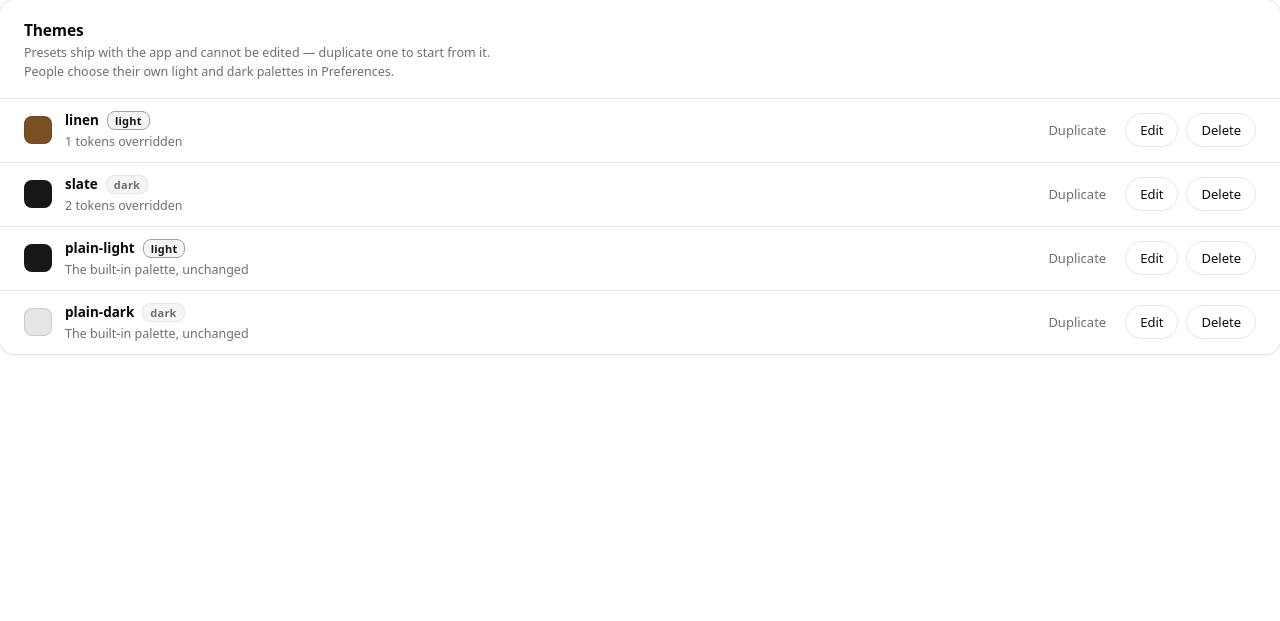
Test: editing › shows an oklch() value in the colour input as the hex it names
This screenshot has width=1280, height=621.
Step 1. Click the button with aria-label "Duplicate slate" → (1077, 194), box [1037,178,1117,210]
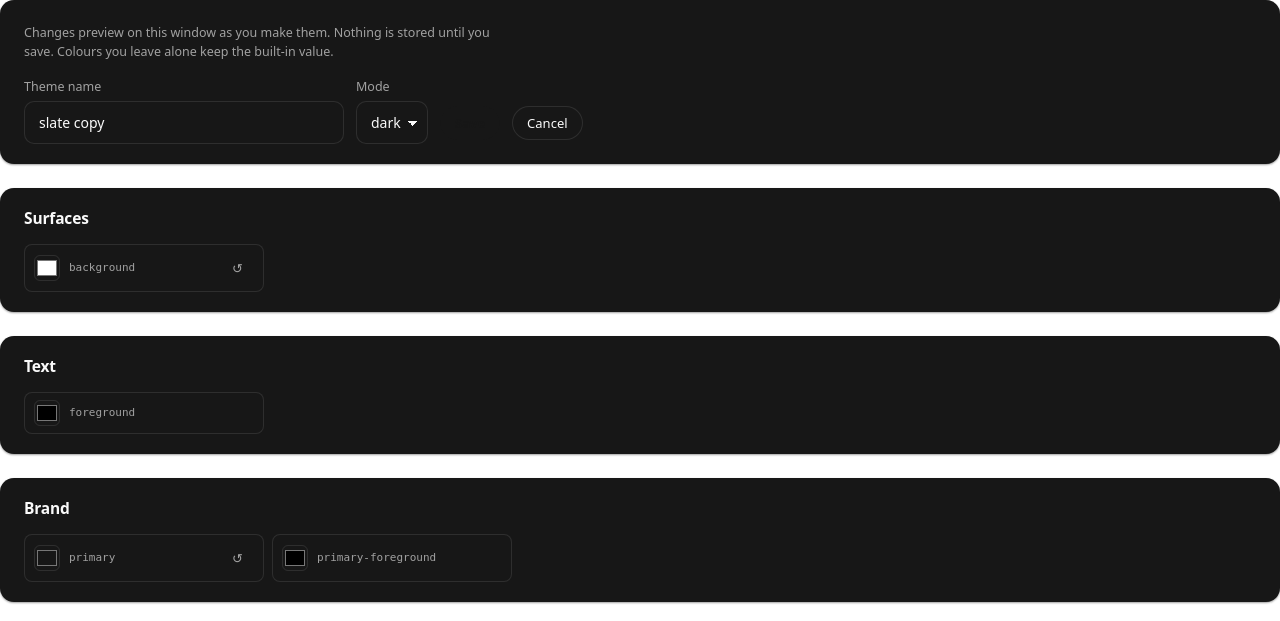
Expected: the colour field named "--primary" holds "#171717", [34,545,60,571]
Expected: the colour field named "--background" holds "#ffffff", [34,255,60,281]
